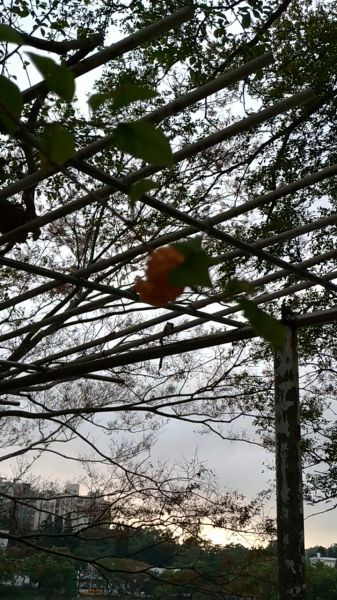eggs: (129, 242, 198, 308)
